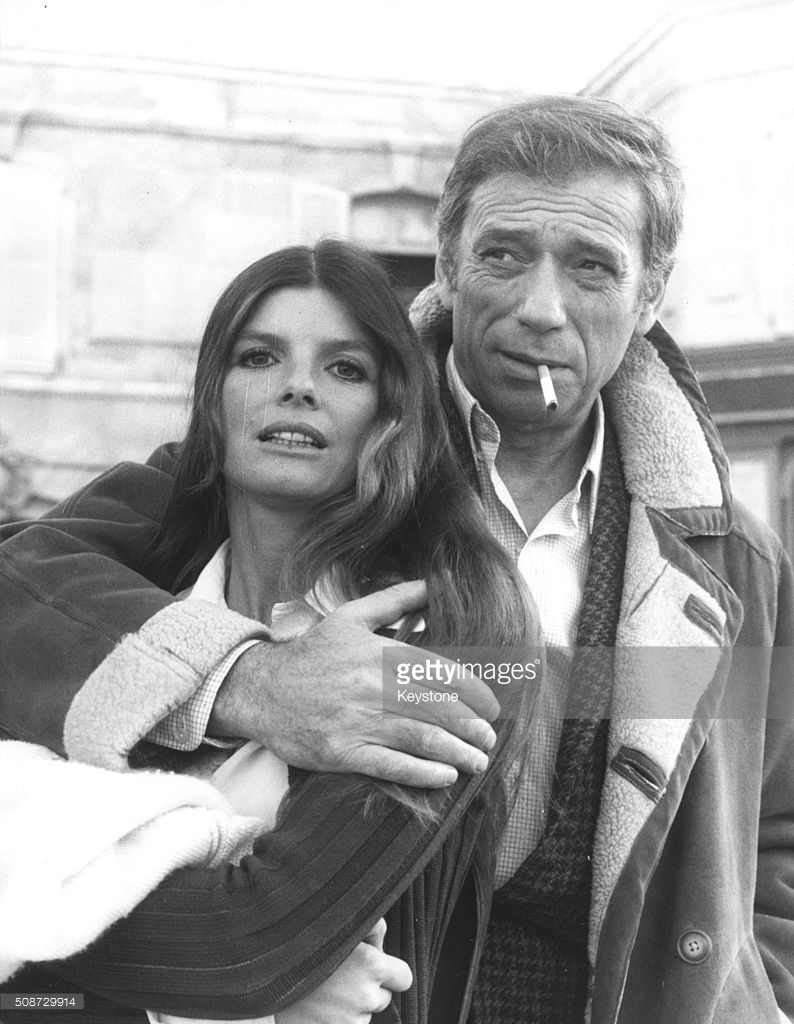cigarette: (538, 355, 558, 407)
